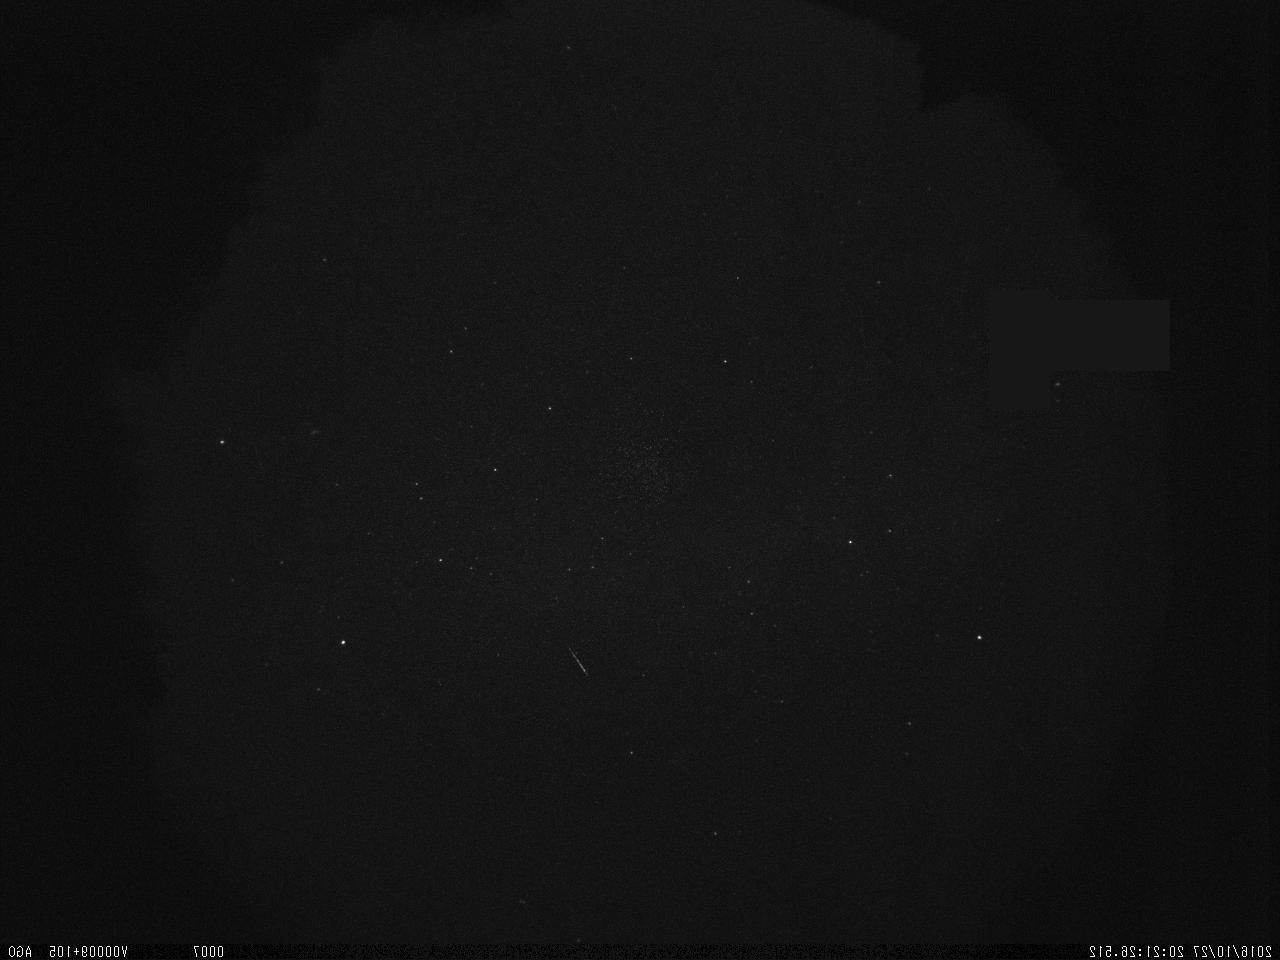meteor: (515, 609, 618, 696)
